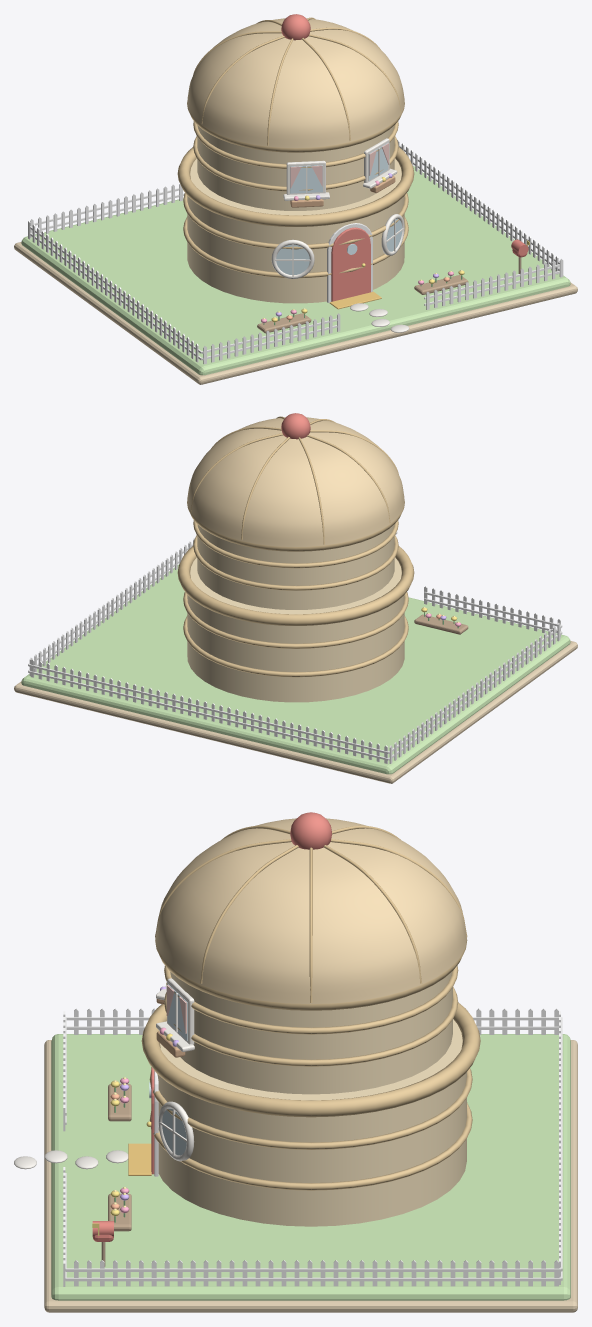
Rendered from building_dumpling_L07.glb.
The picture shows the model from 3 angles, top to bottom: view 1: azimuth 30°, elevation 25°; view 2: azimuth 150°, elevation 25°; view 3: azimuth 270°, elevation 25°; orthographic projection. The views are drawn at different scales.
Visible parts, largest first — view 1: Body, dumpling_L7; view 2: Body, dumpling_L7; view 3: Body, dumpling_L7.
Boxes of the visible parts, <box> form: Body: <box>177,14,414,309</box>; dumpling_L7: <box>14,139,577,384</box>; Body: <box>177,413,414,702</box>; dumpling_L7: <box>14,538,577,783</box>; Body: <box>128,812,480,1226</box>; dumpling_L7: <box>14,1008,577,1312</box>.
Size of the model in its own units: 26.61 by 17.17 by 23.89.
